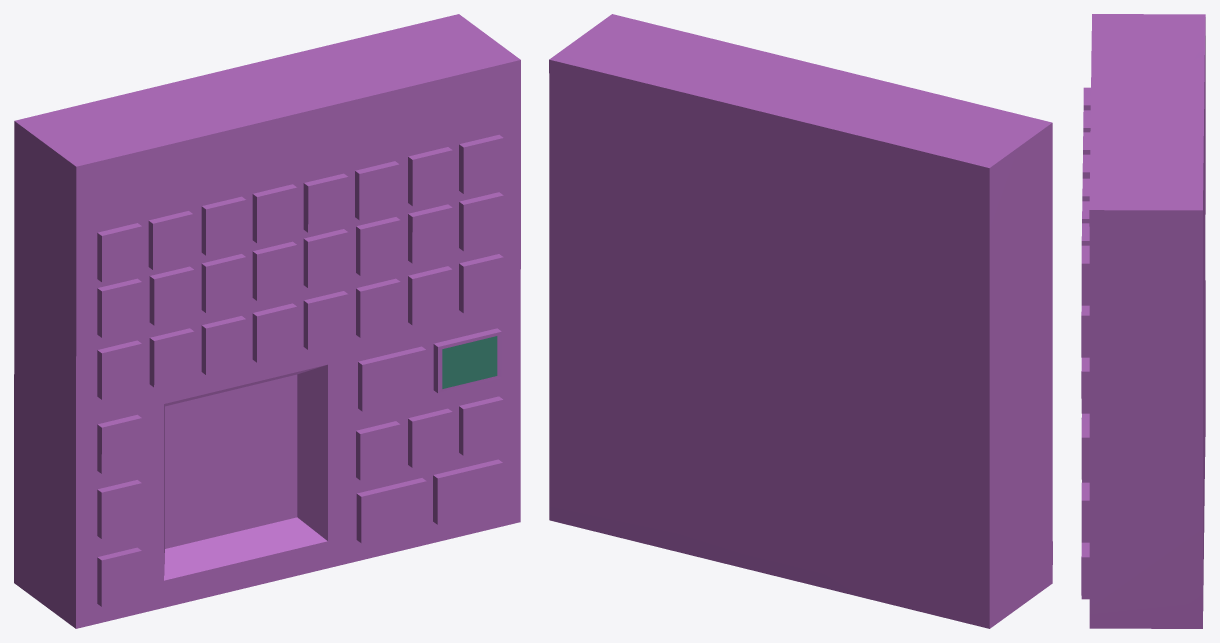
The model's file is panel_code.fbx.
The picture shows the model from 3 angles, left to right: view 1: azimuth 30°, elevation 25°; view 2: azimuth 150°, elevation 25°; view 3: azimuth 270°, elevation 25°; orthographic projection. The views are drawn at different scales.
Visible parts, largest first — view 1: 000-0-2; view 2: 000-0-2; view 3: 000-0-2.
Part boxes in pixels (x1,y1,x2,y2): 000-0-2: (14, 14, 520, 628); 000-0-2: (549, 14, 1052, 628); 000-0-2: (1081, 14, 1205, 628).
Size of the model in its own units: 74.87 by 74.51 by 20.01.
